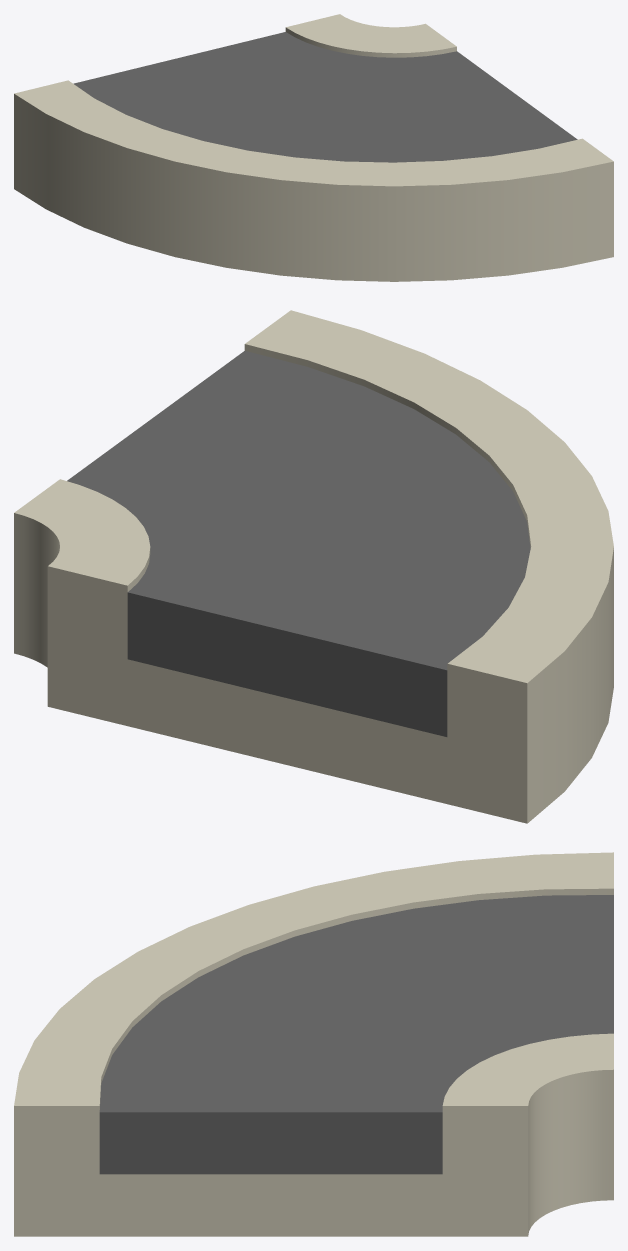
Rendered from roadTile_297.obj.
3 renders of one model, top to bottom at view 1: azimuth 30°, elevation 25°; view 2: azimuth 150°, elevation 25°; view 3: azimuth 270°, elevation 25°, orthographic. The views are drawn at different scales.
Visible parts, largest first — view 1: roadTile_297; view 2: roadTile_297; view 3: roadTile_297.
Boxes of the visible parts, box(x1,y1,x2,y2) form: roadTile_297: box(14, 14, 613, 281); roadTile_297: box(14, 310, 613, 823); roadTile_297: box(14, 852, 613, 1236).
Bounding box in the file's own units: 2.62 × 0.63 × 2.62.
